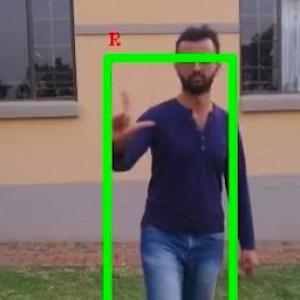land_hand: (102, 85, 162, 153)
